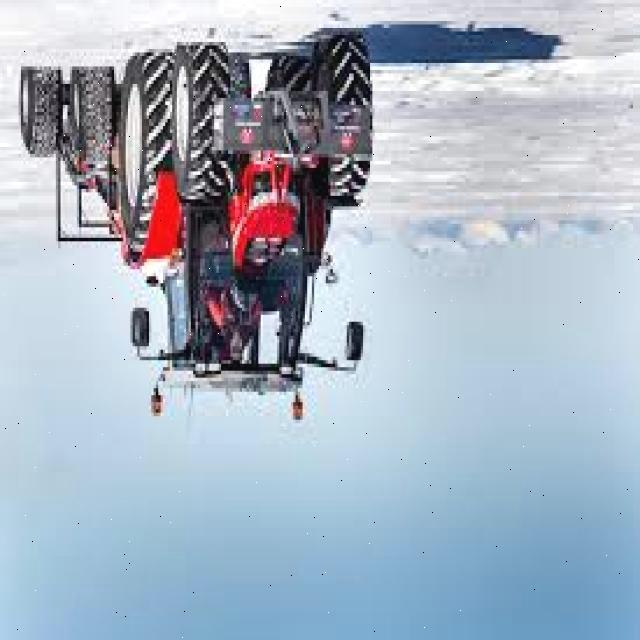Tratores - v5 YOLO V8L 2024-11-13: (117, 33, 373, 394)
